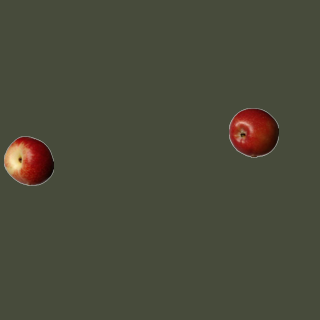Apple Braeburn: (228, 107, 278, 157)
Nectarine: (3, 135, 53, 185)
